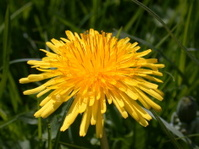dandelion: (24, 22, 166, 134)
